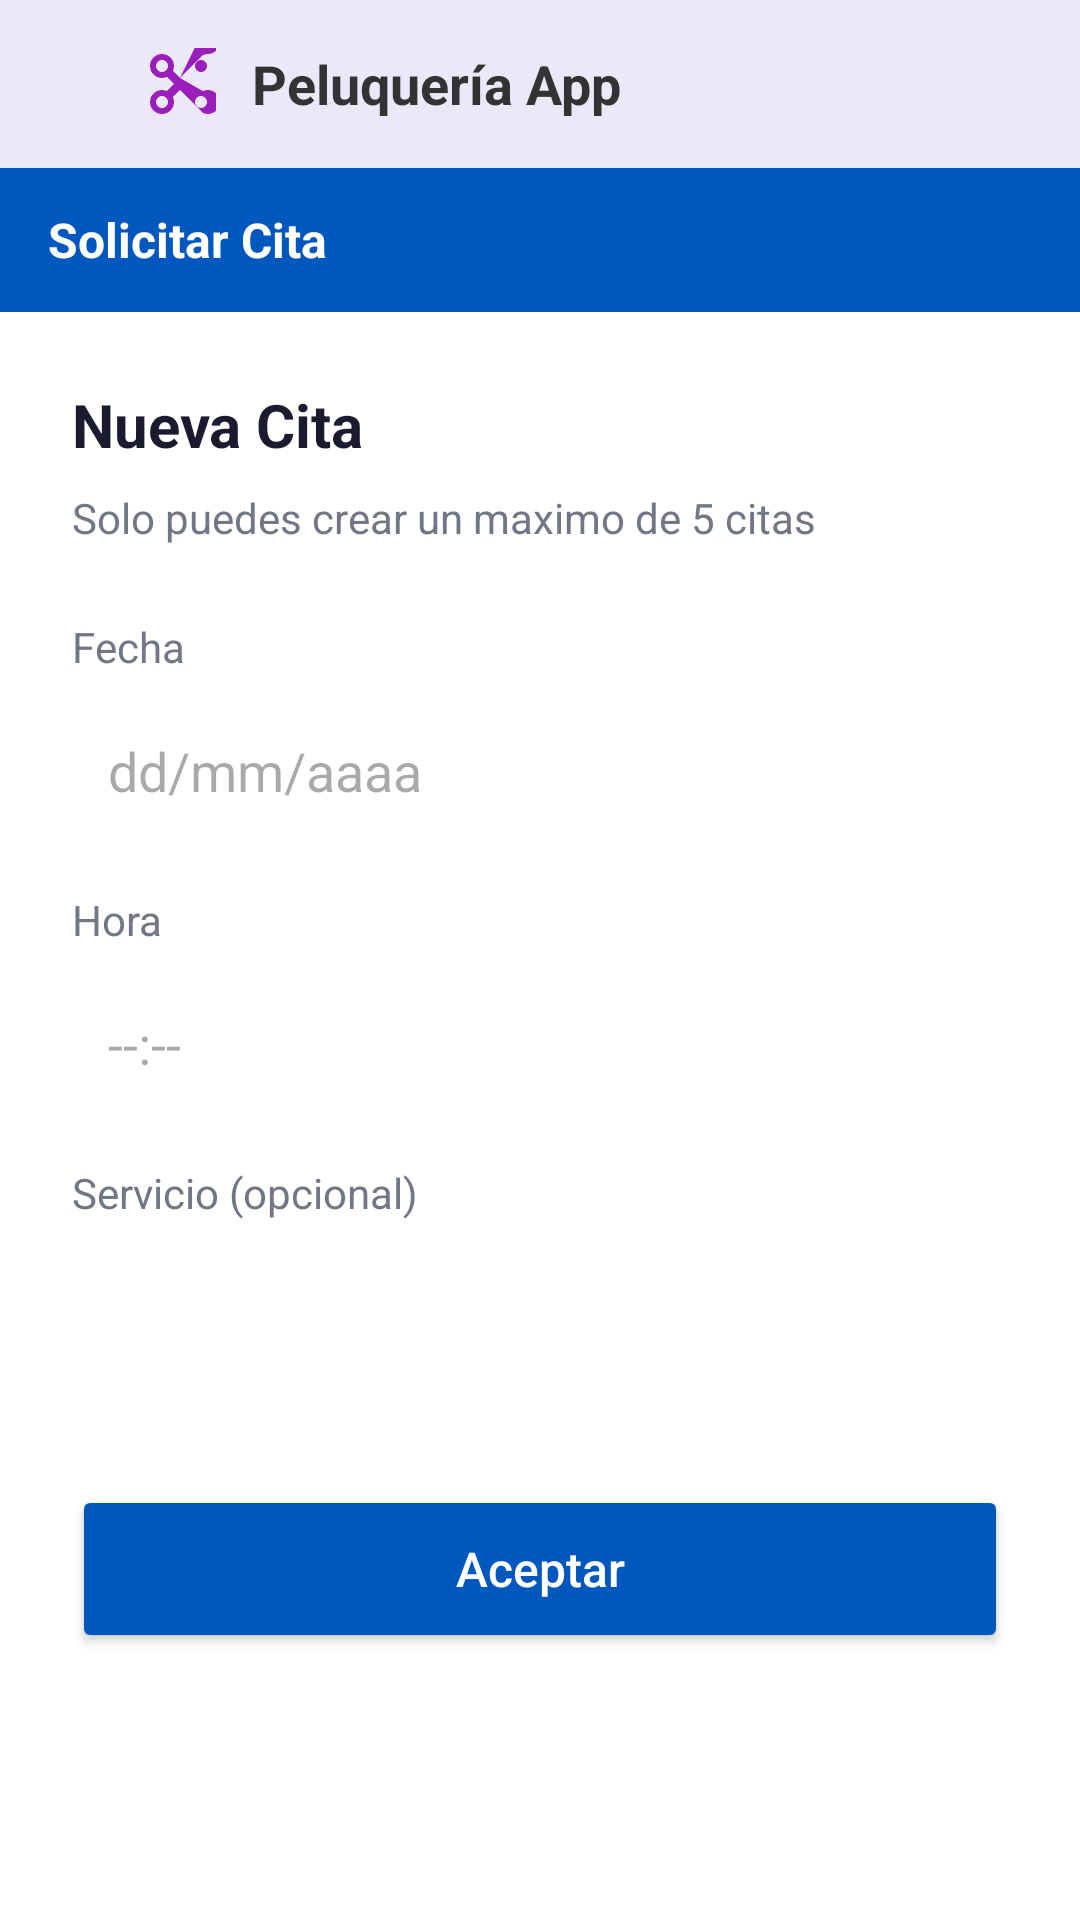

Where icons sit on this 1080 × 1920 app screen, as [left=x1, top=y1, right=x2, bottom=y2]:
content cut: [left=150, top=48, right=216, bottom=114]
